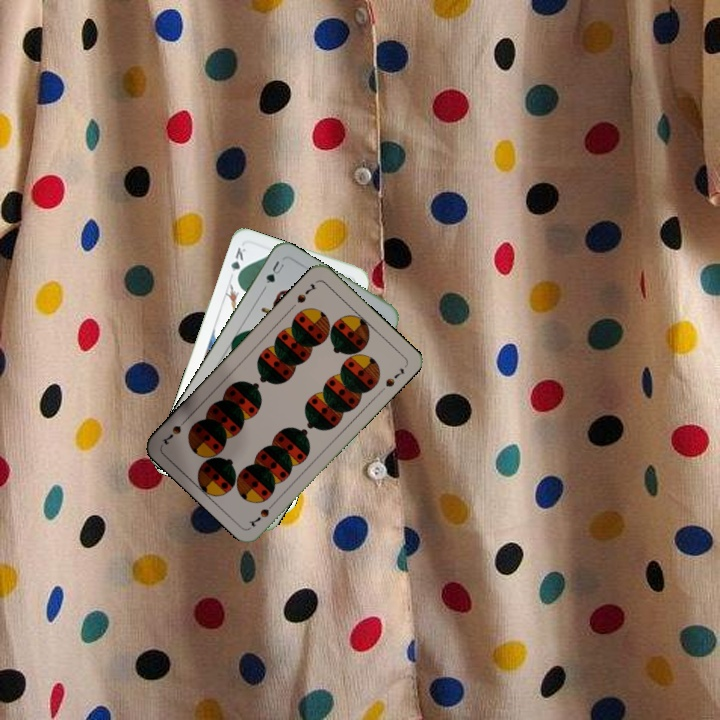GK: (227, 243, 248, 283)
GU: (262, 257, 287, 286)
S7: (245, 497, 278, 529), (293, 280, 319, 306)
